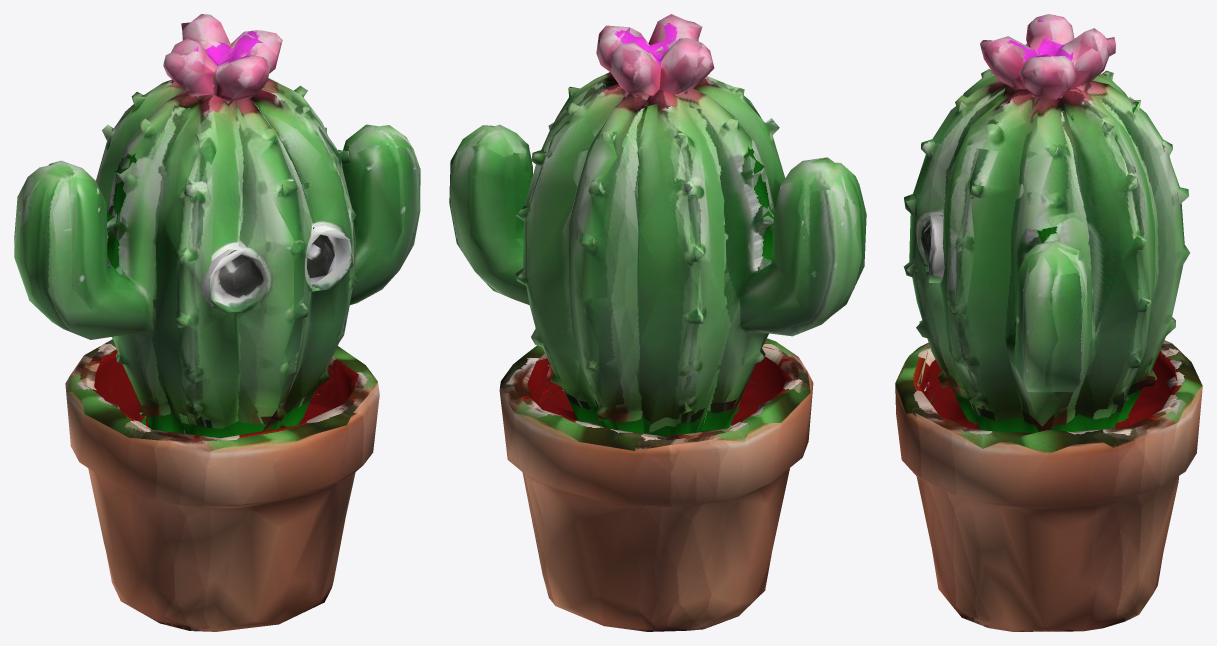
File: cactus-low.glb
The picture shows the model from 3 angles, left to right: view 1: azimuth 30°, elevation 25°; view 2: azimuth 150°, elevation 25°; view 3: azimuth 270°, elevation 25°; orthographic projection.
Visible parts, largest first — view 1: cactus_LOD1; view 2: cactus_LOD1; view 3: cactus_LOD1.
Part boxes in pixels (x1,y1,x2,y2): cactus_LOD1: [14, 14, 420, 631]; cactus_LOD1: [449, 14, 866, 631]; cactus_LOD1: [895, 14, 1202, 631].
Size of the model in its own units: 0.7122 by 0.9563 by 0.4771.
1 material, 1 textured.
